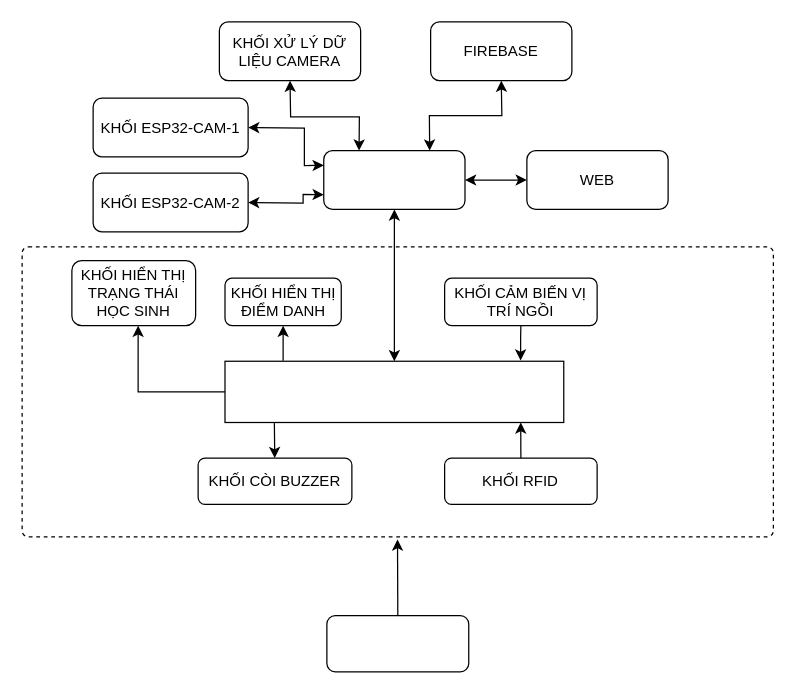
The diagram is 795 pixels wide and 694 high, and some of its shapes have lost their labels. Each missing label, with the centre of its shape:
"KHỐI NGUỐN" belongs at (x=397, y=643).
"KHỐI XỬ LÝ TRUNG TÂM" belongs at (x=394, y=391).
"ROUTER WIFI" belongs at (x=393, y=179).
